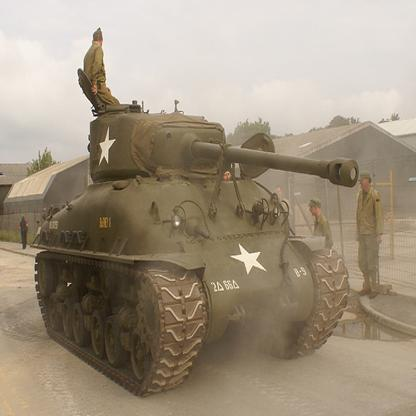Tank: (30, 89, 363, 399)
